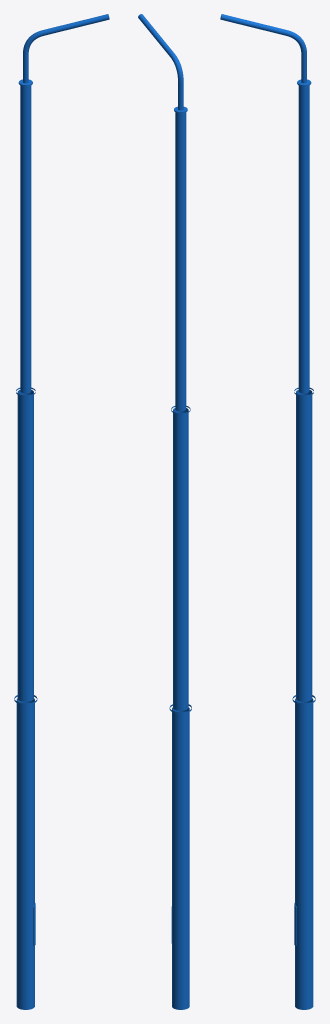
3 views of the same model, side by side, from view 1: azimuth 90°, elevation 25°; view 2: azimuth 210°, elevation 25°; view 3: azimuth 270°, elevation 25° (orthographic). The views are drawn at different scales.
Parts seen in each view (by area): view 1: B-27; view 2: B-27; view 3: B-27.
Part boxes in pixels (bbox=[...]): B-27: bbox=[14, 14, 109, 1009]; B-27: bbox=[138, 14, 191, 1009]; B-27: bbox=[220, 14, 315, 1009].
Bounding box in the file's own units: 15.72 × 751 × 65.38.
